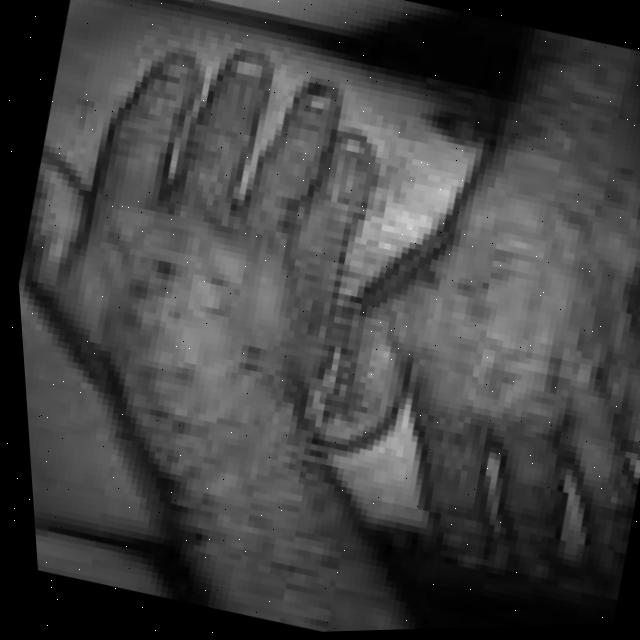Melasma: (64, 207, 326, 549), (508, 162, 640, 453)
